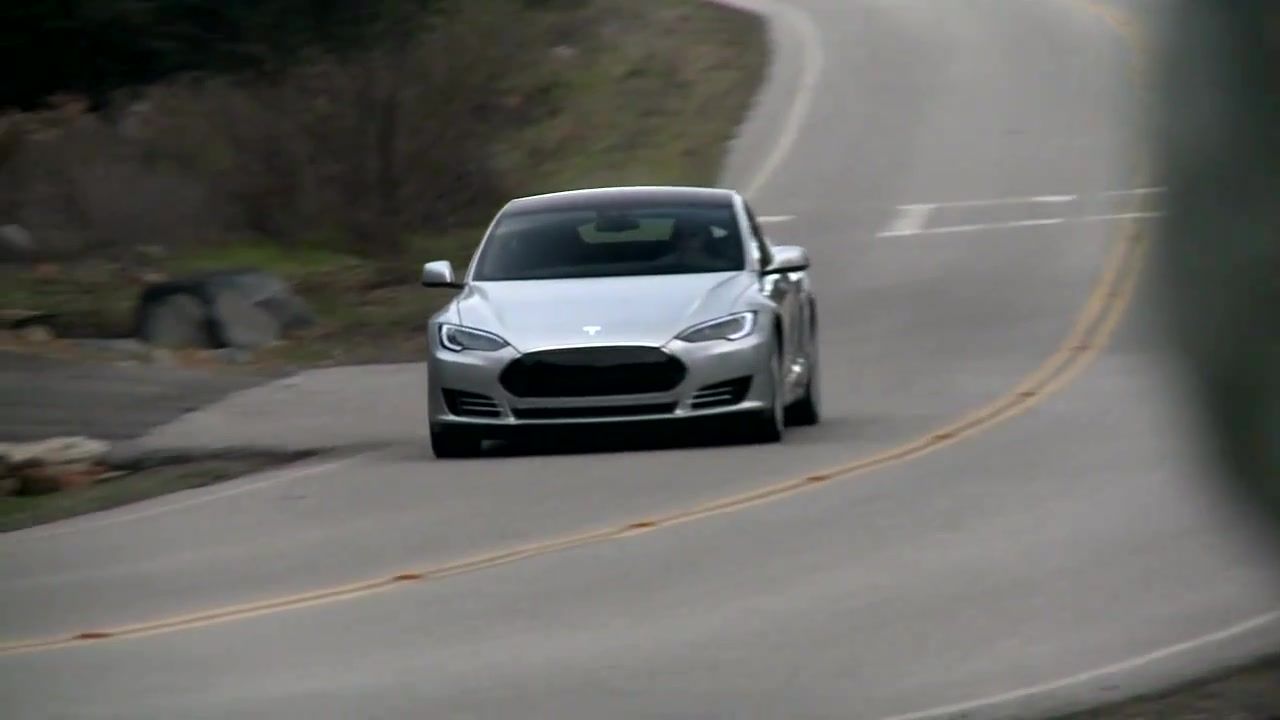car: (426, 188, 832, 445)
